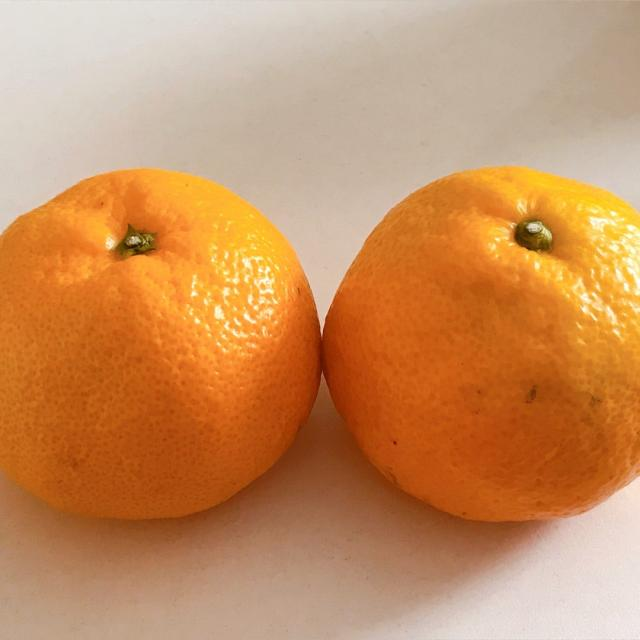Orange: (0, 146, 323, 518), (318, 159, 640, 527)
